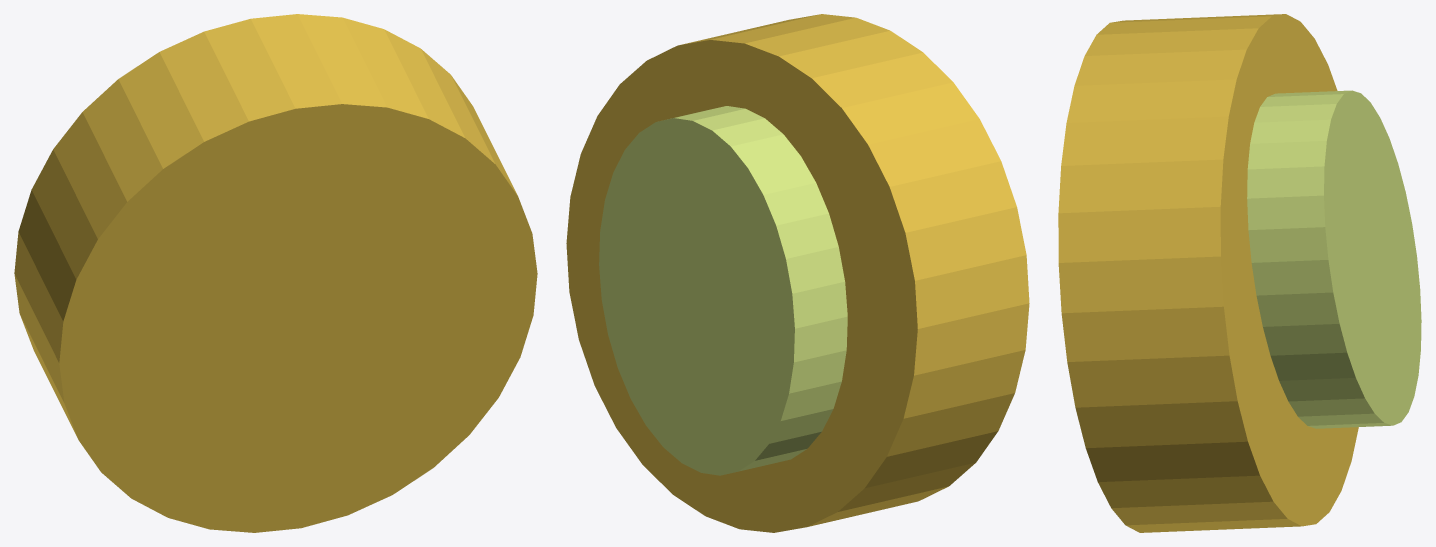
Rendered from hip.dae.
3 renders of one model, left to right at view 1: azimuth 30°, elevation 25°; view 2: azimuth 150°, elevation 25°; view 3: azimuth 270°, elevation 25°, orthographic. The views are drawn at different scales.
Visible parts, largest first — view 1: hip; view 2: hip; view 3: hip.
Part boxes in pixels (left/top/right/bottom): hip: left=14, top=14, right=537, bottom=532; hip: left=566, top=14, right=1029, bottom=532; hip: left=1058, top=14, right=1421, bottom=532.
Size of the model in its own units: 0.095 by 0.0652 by 0.0965.
